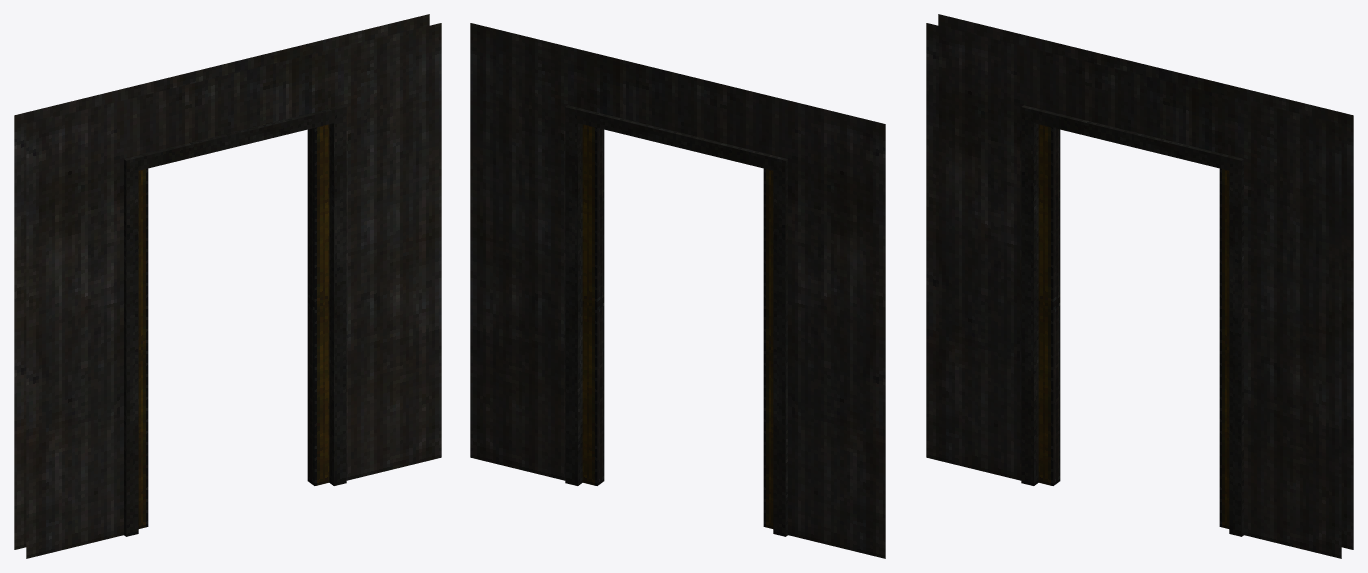
The model's file is doorway_slim_1_1.glb.
The picture shows the model from 3 angles, left to right: view 1: azimuth 30°, elevation 25°; view 2: azimuth 150°, elevation 25°; view 3: azimuth 330°, elevation 25°; orthographic projection.
Visible parts, largest first — view 1: doorway_slim_1_1, door_slim_1_a_1, door_slim_1_b_1; view 2: doorway_slim_1_1, door_slim_1_a_1, door_slim_1_b_1; view 3: doorway_slim_1_1, door_slim_1_b_1, door_slim_1_a_1.
Part boxes in pixels (left/top/right/bottom): doorway_slim_1_1: left=14, top=14, right=441, bottom=558; door_slim_1_a_1: left=307, top=124, right=329, bottom=485; door_slim_1_b_1: left=138, top=168, right=148, bottom=528; doorway_slim_1_1: left=470, top=23, right=885, bottom=558; door_slim_1_a_1: left=582, top=124, right=604, bottom=485; door_slim_1_b_1: left=763, top=168, right=773, bottom=528; doorway_slim_1_1: left=926, top=14, right=1353, bottom=558; door_slim_1_b_1: left=1038, top=124, right=1060, bottom=485; door_slim_1_a_1: left=1219, top=168, right=1229, bottom=528.
Bounding box in the file's own units: 2 × 2 × 0.14.
Materials: 3 (3 with a texture image).
